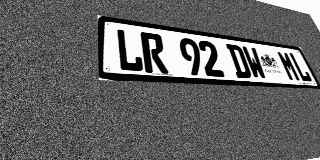2: (197, 40, 225, 77)
9: (178, 37, 206, 76)
D: (226, 44, 253, 79)
L: (115, 28, 144, 72), (288, 52, 313, 82)
M: (276, 51, 302, 81)
R: (140, 32, 169, 74)
W: (241, 46, 268, 80)
